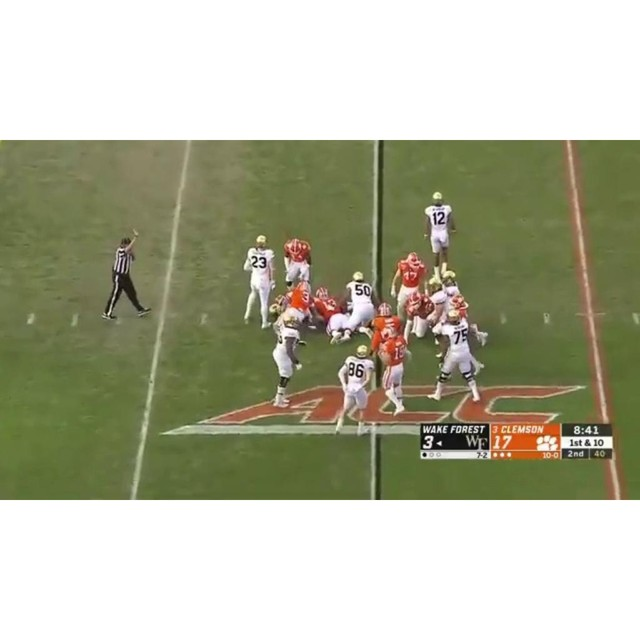american-football-player: (428, 309, 484, 402), (336, 343, 376, 435), (240, 235, 276, 332), (272, 311, 307, 407), (422, 191, 457, 281), (376, 329, 411, 417), (343, 271, 376, 341), (391, 252, 426, 318), (312, 284, 350, 342), (273, 280, 313, 331), (367, 300, 401, 355), (283, 238, 312, 292), (404, 293, 436, 341)
referee: (101, 231, 153, 322)
